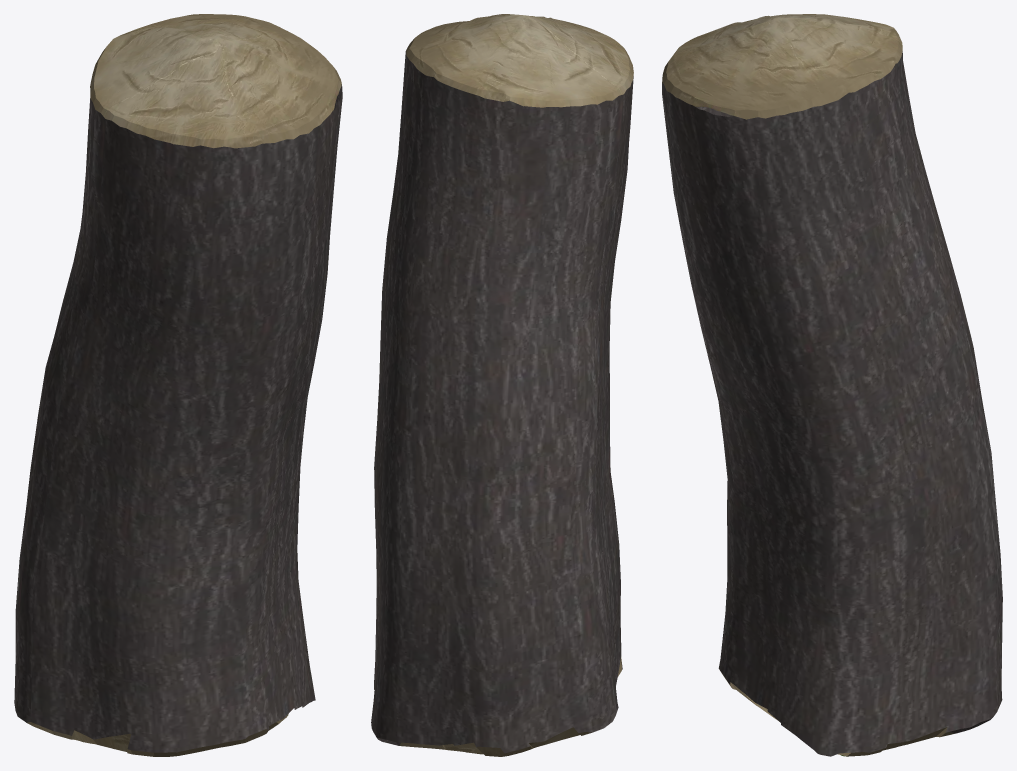
The picture shows the model from 3 angles, left to right: view 1: azimuth 30°, elevation 25°; view 2: azimuth 150°, elevation 25°; view 3: azimuth 270°, elevation 25°; orthographic projection. The views are drawn at different scales.
Parts seen in each view (by area): view 1: SM_BM_Oak_Tree_02_tree_quarters_bottom_LOD0; view 2: SM_BM_Oak_Tree_02_tree_quarters_bottom_LOD0; view 3: SM_BM_Oak_Tree_02_tree_quarters_bottom_LOD0.
Part boxes in pixels (box(x1,y1,x2,y2)): SM_BM_Oak_Tree_02_tree_quarters_bottom_LOD0: box(14, 14, 342, 756); SM_BM_Oak_Tree_02_tree_quarters_bottom_LOD0: box(371, 14, 633, 756); SM_BM_Oak_Tree_02_tree_quarters_bottom_LOD0: box(662, 14, 1002, 756).
Size of the model in its own units: 1.11 by 2.98 by 1.29.
